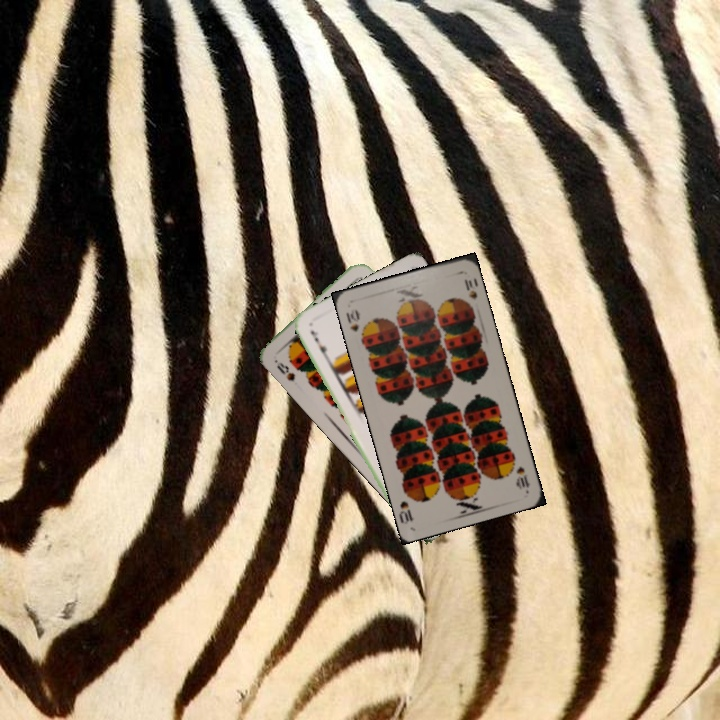E7: (306, 326, 329, 361)
S10: (342, 306, 368, 343), (512, 462, 533, 492)
S8: (270, 355, 298, 384)
